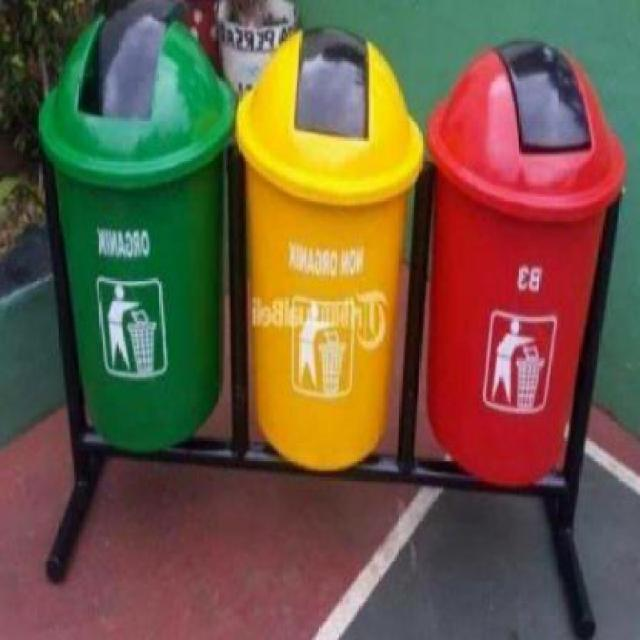garbage container: (425, 23, 626, 500), (34, 2, 235, 466), (234, 9, 428, 471)
